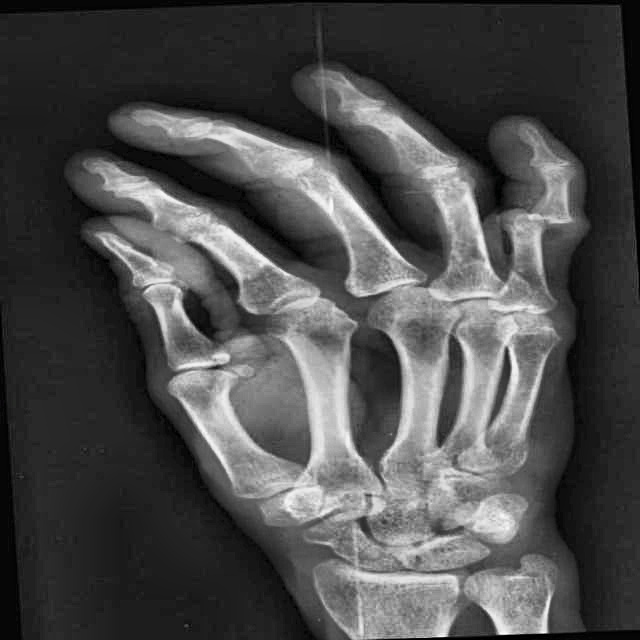Transverse: (494, 183, 590, 256)
